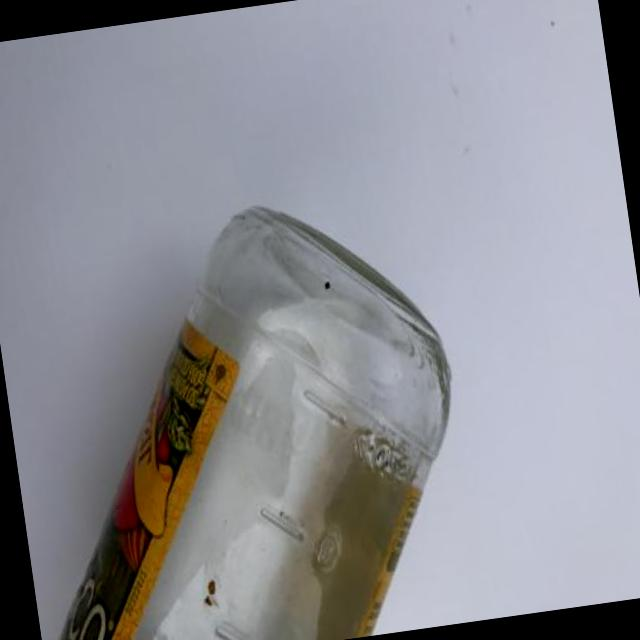bottle: (59, 208, 449, 639)
